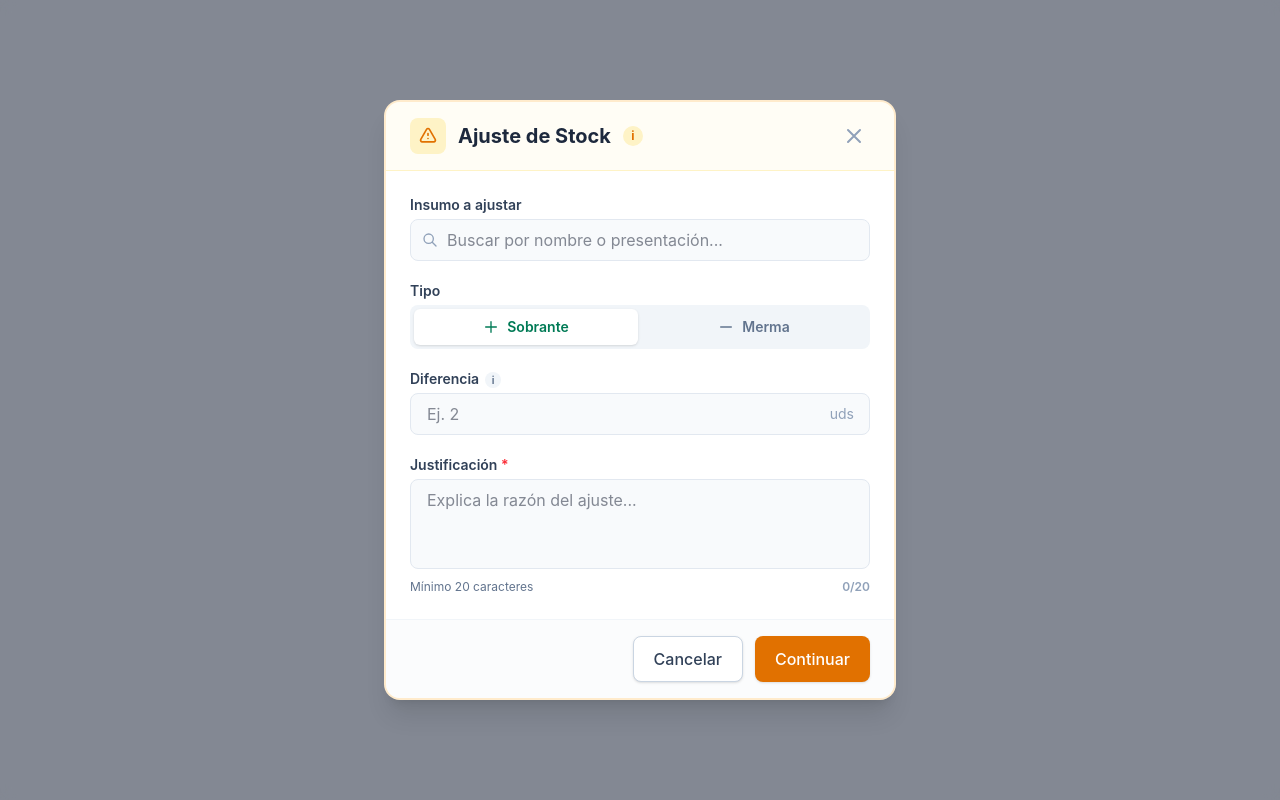
Test: AjusteModal (sobrantes y mermas) › muestra la identidad y el estado del stock seleccionado
Step 1. Type "jeringa" into the dropdown → (640, 240), box [410,219,870,261]
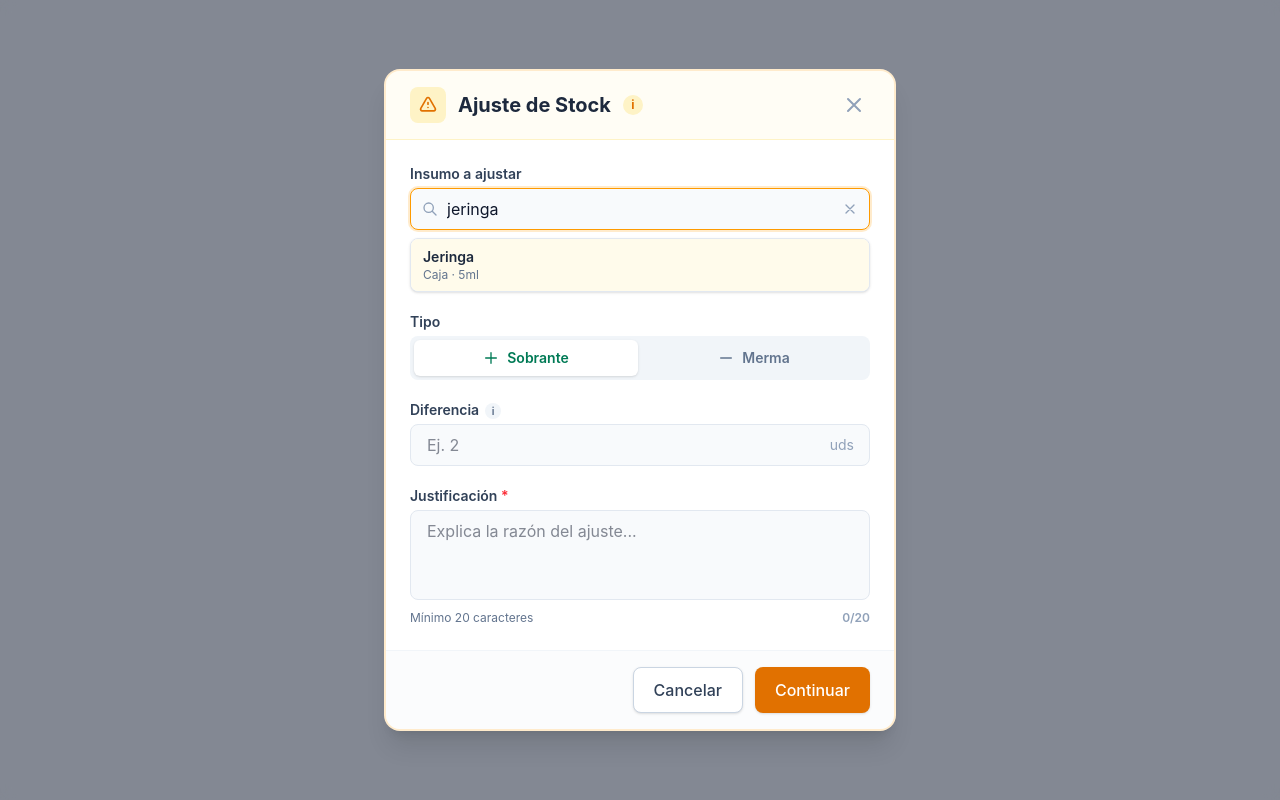
Step 2. Click the option "Jeringa Caja · 5ml" → (449, 256), box [411,239,869,291]
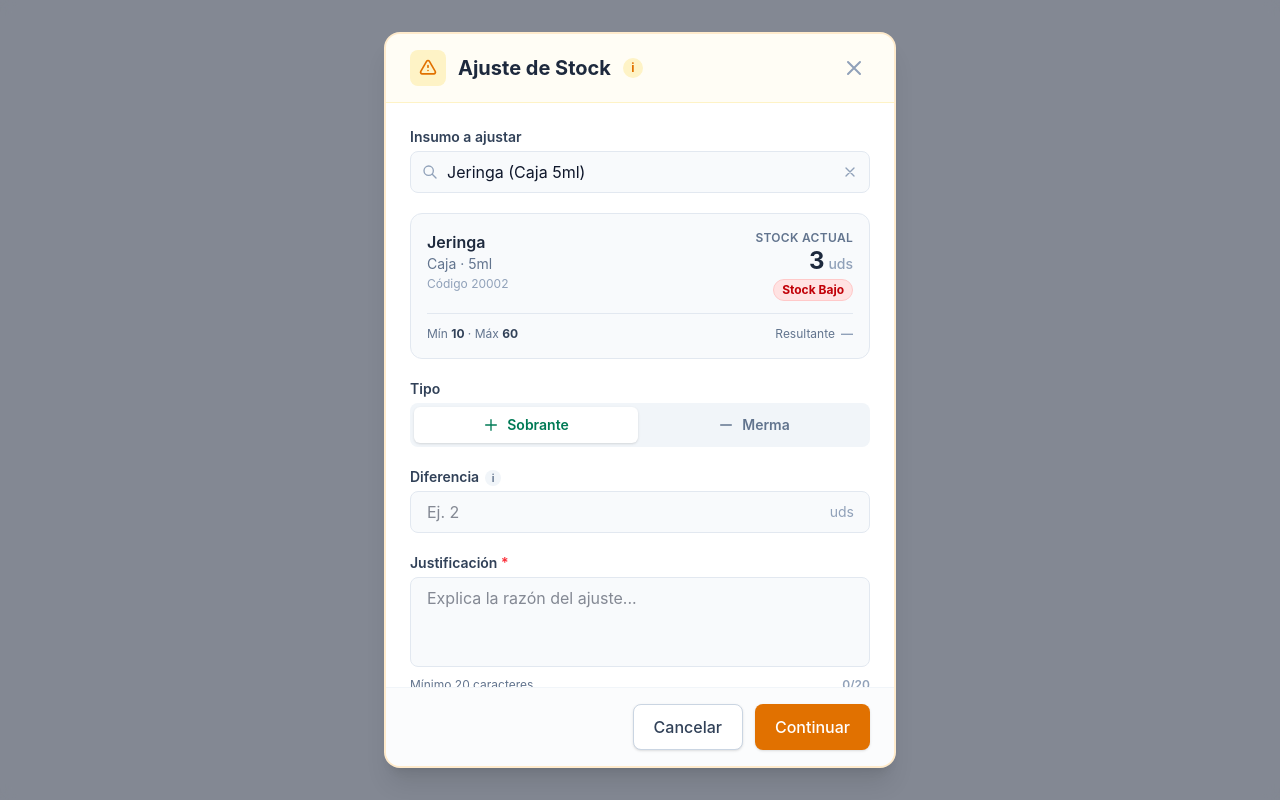
Expected: the text "Jeringa" is shown, [427,232,485,252]
Expected: the text "Caja · 5ml" is shown, [427,255,492,272]
Expected: the text "Stock Bajo" is shown, [773,279,853,301]
